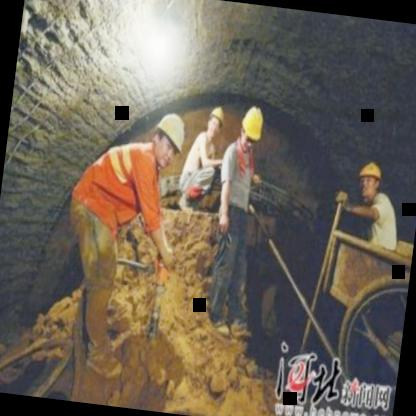helmet: (146, 107, 190, 174), (236, 100, 268, 155), (354, 157, 386, 202), (206, 102, 226, 140)
